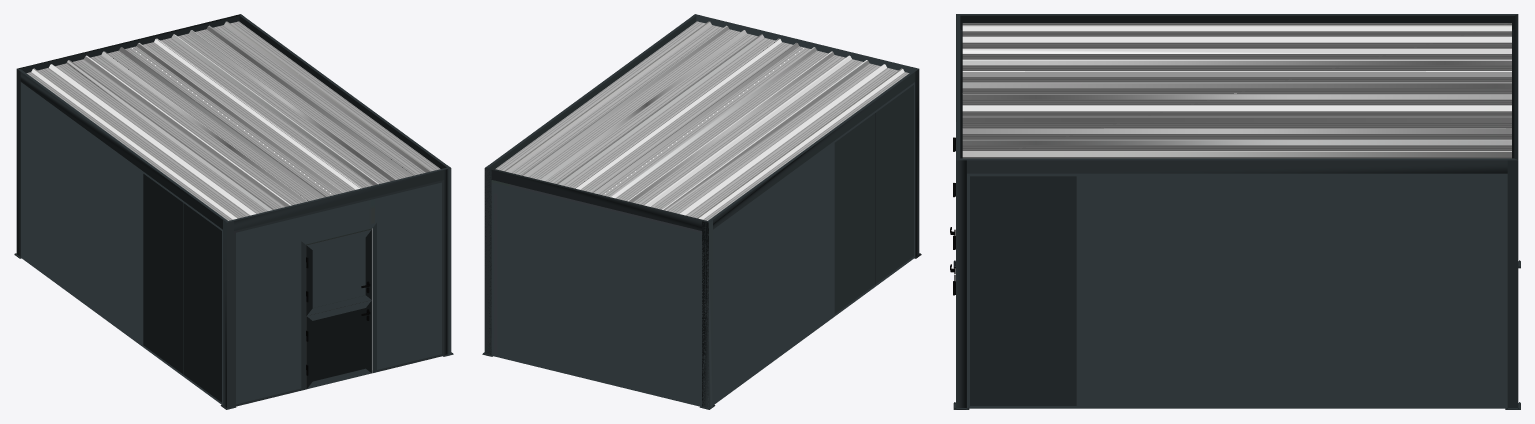
The picture shows the model from 3 angles, left to right: view 1: azimuth 30°, elevation 25°; view 2: azimuth 150°, elevation 25°; view 3: azimuth 270°, elevation 25°; orthographic projection. The views are drawn at different scales.
Visible parts, largest first — view 1: priximbattable_net_box_a_cheval_13444_module_carport_box_che, folhabaixo, folhacima, porta; view 2: priximbattable_net_box_a_cheval_13444_module_carport_box_che; view 3: priximbattable_net_box_a_cheval_13444_module_carport_box_che.
Boxes of the visible parts, x1,y1,x2,y2 form: priximbattable_net_box_a_cheval_13444_module_carport_box_che: (14, 14, 453, 409); folhabaixo: (306, 300, 371, 389); folhacima: (306, 229, 371, 315); porta: (301, 222, 376, 390); priximbattable_net_box_a_cheval_13444_module_carport_box_che: (482, 14, 921, 409); priximbattable_net_box_a_cheval_13444_module_carport_box_che: (953, 14, 1520, 409).
Bounding box in the file's own units: 324 × 254 × 528.
1 material, 1 textured.
